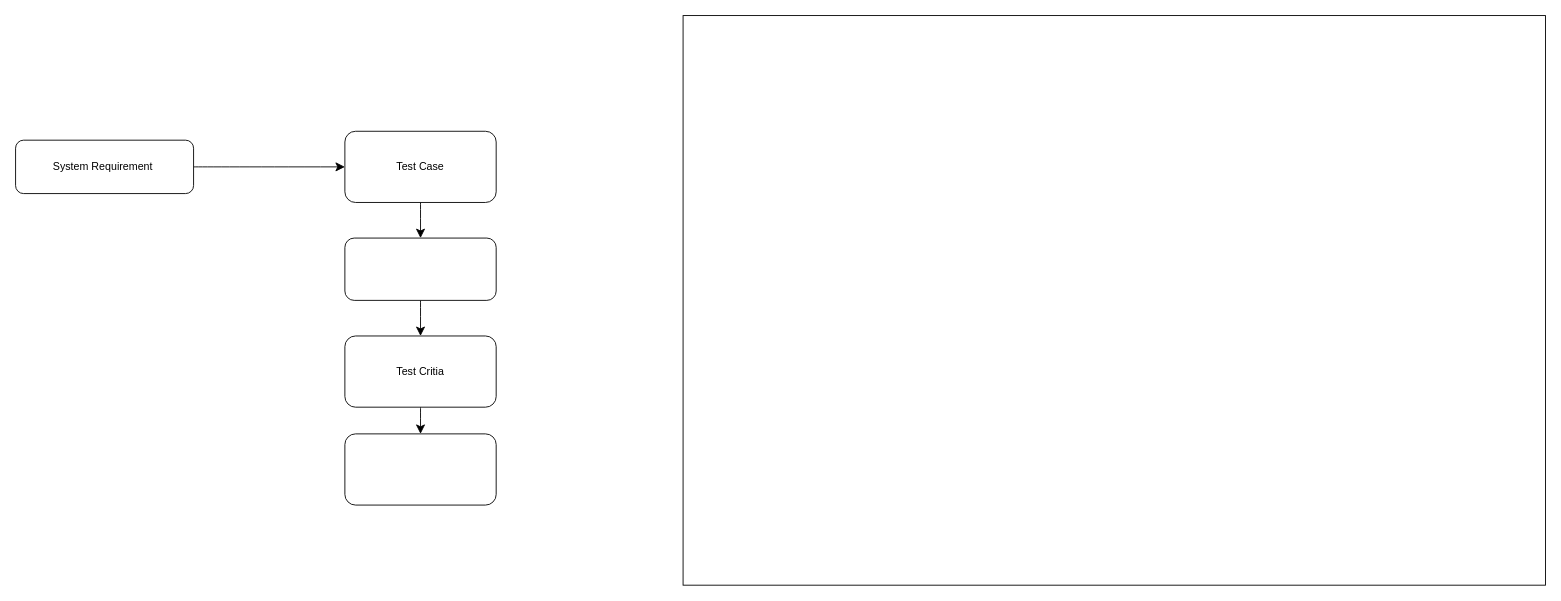
This 1561x601 diagram has some shape labels left out. The centre of each missing label's shape, as x and y in pixels:
"Is Verified?" belongs at point (420, 469).
"Test Step" belongs at point (420, 268).
